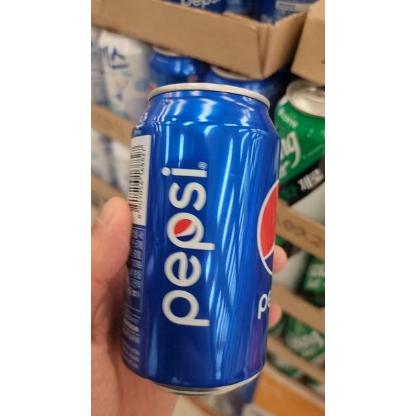Can: (122, 81, 282, 394)
